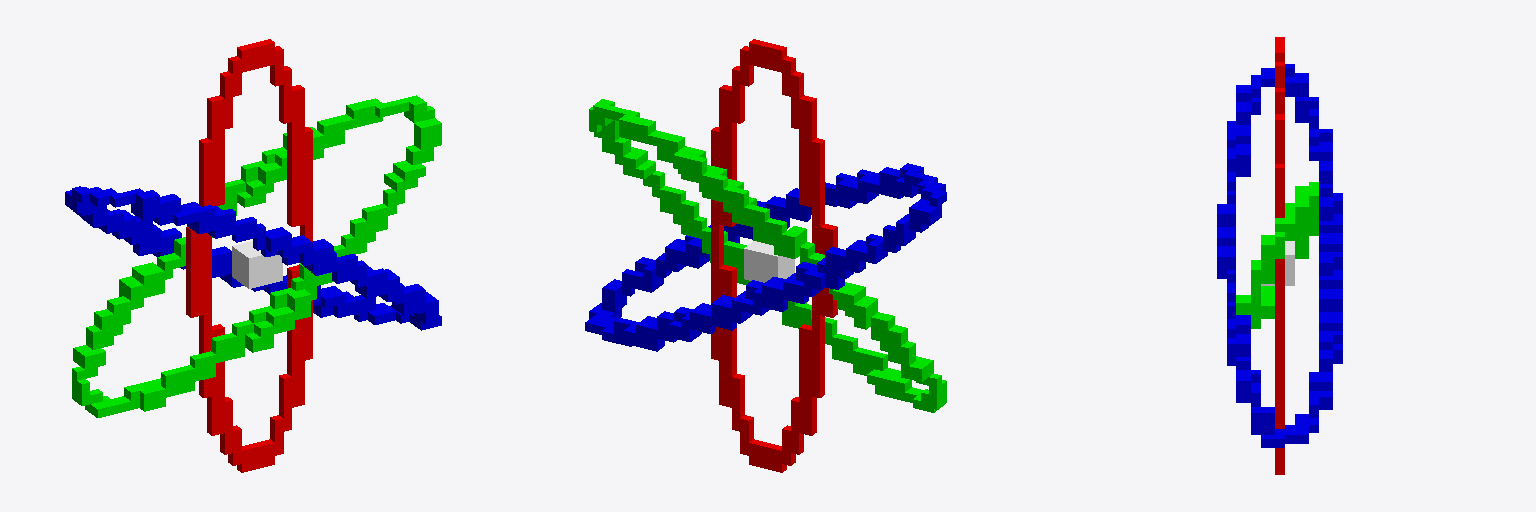
3 views of the same model, side by side, from view 1: azimuth 30°, elevation 25°; view 2: azimuth 150°, elevation 25°; view 3: azimuth 270°, elevation 25° (orthographic).
Parts seen in each view (by area): view 1: player; view 2: player; view 3: player.
Part boxes in pixels (x1,y1,x2,y2): player: (65,39,441,472); player: (585,39,946,472); player: (1217,37,1342,474).
Bounding box in the file's own units: 8.4 × 9.6 × 2.6.
1 materials, 1 textured.